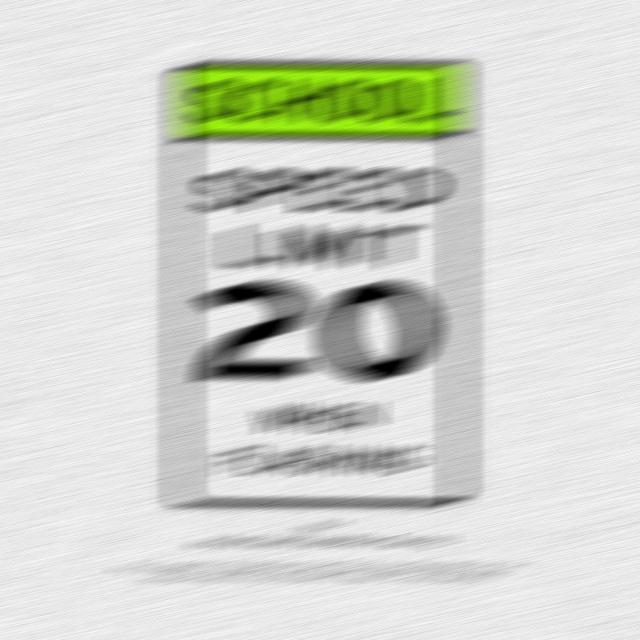speedLimit20: (171, 140, 482, 515)
